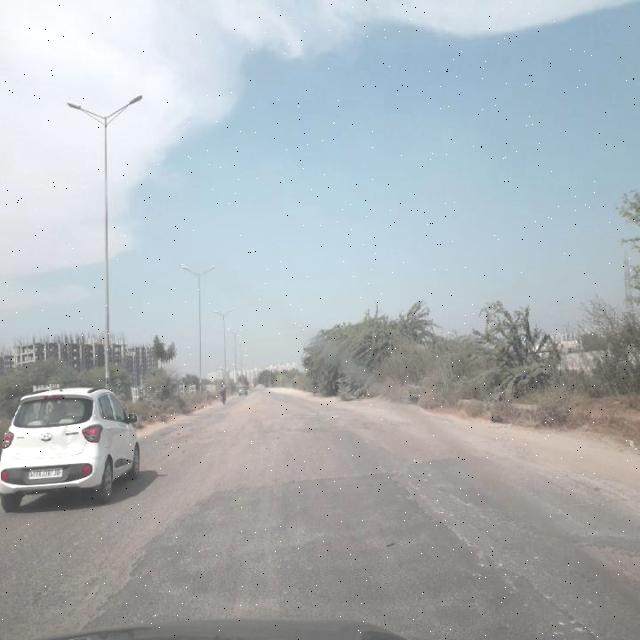D40: (22, 546, 140, 626), (574, 521, 636, 584)
